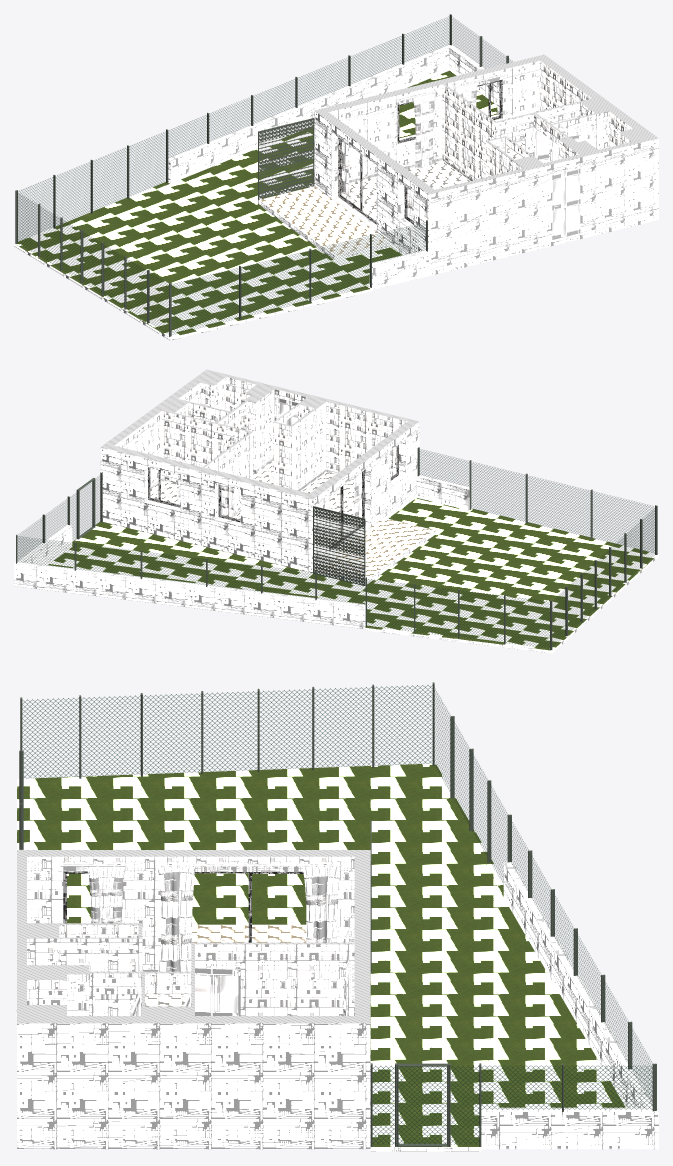
The picture shows the model from 3 angles, top to bottom: view 1: azimuth 30°, elevation 25°; view 2: azimuth 150°, elevation 25°; view 3: azimuth 270°, elevation 25°; orthographic projection. The views are drawn at different scales.
Visible parts, largest first — view 1: masonry_01, ground_garden_01, fence_01, section_01, ground_terrace_01, railing_green_01, door_01, ground_living_01, french_window_doble_01, curtain_02; view 2: masonry_01, ground_garden_01, fence_01, section_01, ground_terrace_01, railing_green_01, ground_living_01, french_window_doble_01, ground_bed_01; view 3: ground_garden_01, masonry_01, fence_01, section_01, curtain_04, interior_door_panel_03, ground_terrace_01, curtain_01, french_window_doble_01.
Part boxes in pixels (left/top/right/bottom): masonry_01: left=14, top=44, right=658, bottom=340; ground_garden_01: left=14, top=70, right=497, bottom=337; fence_01: left=15, top=14, right=512, bottom=336; section_01: left=314, top=54, right=658, bottom=194; ground_terrace_01: left=259, top=186, right=389, bottom=255; railing_green_01: left=258, top=118, right=314, bottom=203; door_01: left=552, top=166, right=580, bottom=239; ground_living_01: left=341, top=160, right=470, bottom=221; french_window_doble_01: left=338, top=74, right=503, bottom=224; curtain_02: left=413, top=92, right=434, bottom=169; masonry_01: left=14, top=377, right=658, bottom=653; ground_garden_01: left=48, top=498, right=658, bottom=650; fence_01: left=16, top=447, right=657, bottom=649; section_01: left=101, top=369, right=418, bottom=498; ground_terrace_01: left=314, top=518, right=434, bottom=581; railing_green_01: left=313, top=506, right=365, bottom=585; ground_living_01: left=233, top=472, right=361, bottom=545; french_window_doble_01: left=148, top=445, right=398, bottom=550; ground_bed_01: left=150, top=481, right=178, bottom=504; ground_garden_01: left=17, top=763, right=625, bottom=1146; masonry_01: left=17, top=856, right=658, bottom=1151; fence_01: left=19, top=682, right=656, bottom=1146; section_01: left=17, top=850, right=370, bottom=1023; curtain_04: left=158, top=865, right=340, bottom=971; interior_door_panel_03: left=195, top=967, right=240, bottom=1015; ground_terrace_01: left=191, top=924, right=306, bottom=942; curtain_01: left=88, top=865, right=124, bottom=923; french_window_doble_01: left=63, top=864, right=354, bottom=1015.
Size of the model in its own units: 17.61 by 2.75 by 12.52.
Materials: 19 (11 with a texture image).
